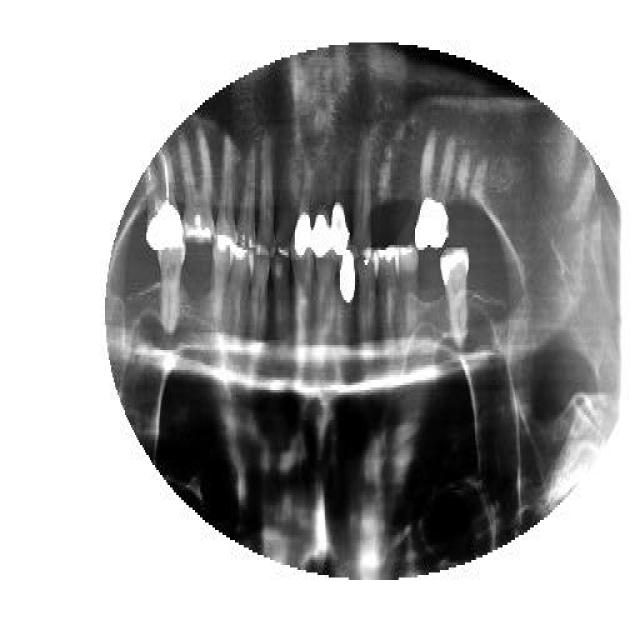Cavity: (453, 152, 488, 228), (376, 148, 396, 220)
Fillings: (411, 135, 455, 253), (181, 125, 215, 245), (439, 248, 470, 348), (374, 248, 398, 348), (210, 232, 234, 330), (312, 165, 332, 255), (330, 173, 351, 255), (294, 163, 312, 255), (339, 252, 355, 342)
Implant: (145, 145, 183, 253)
